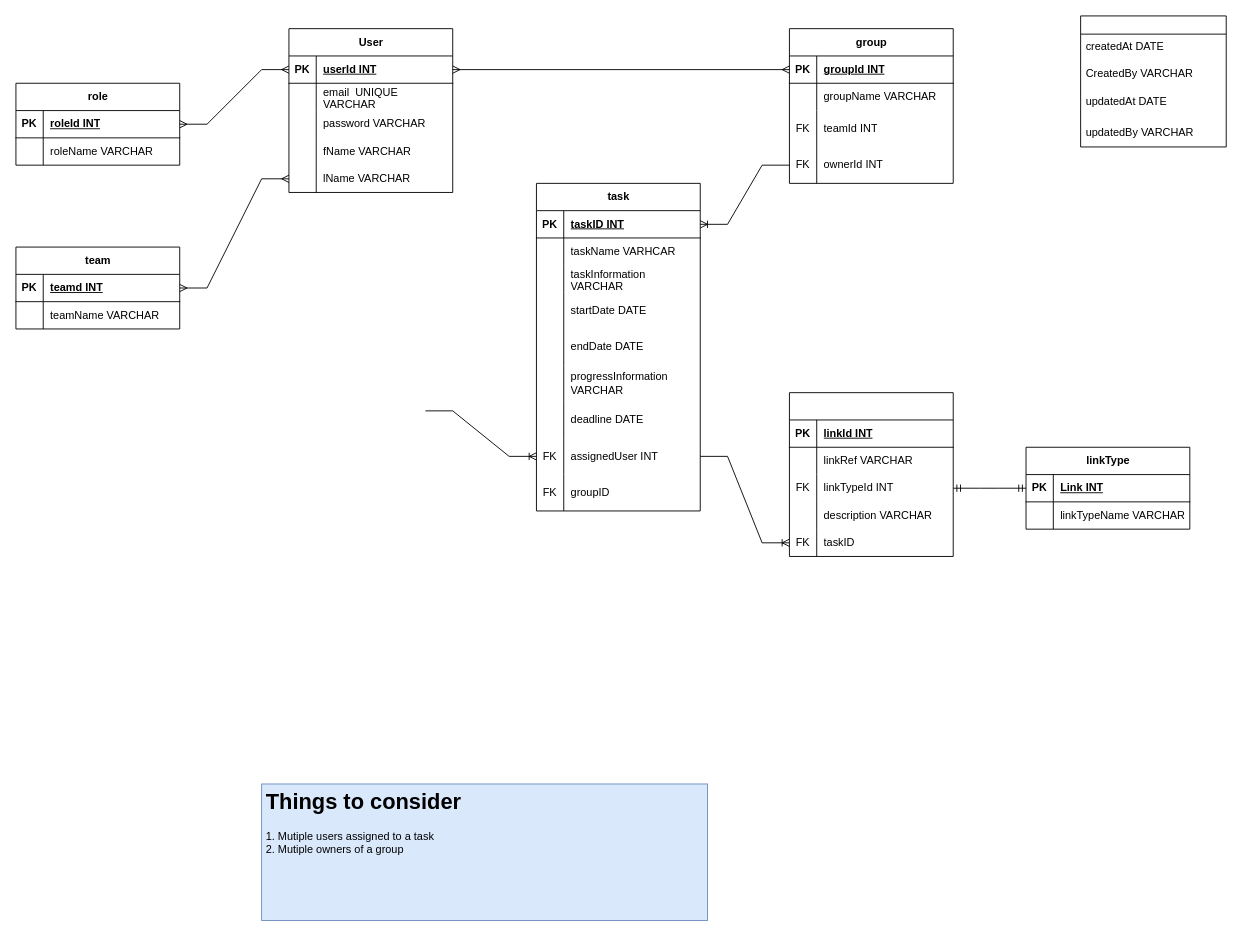
Image size: 1242x936. Some labels were removed from this diagram. The box of each missing label's shape, as (x1, y1, x2, y2) in pixels:
baseEntity: (1080, 15, 1226, 147)
links: (789, 392, 953, 556)
